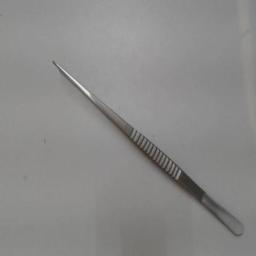DeBakey Dissector: (44, 46, 248, 244)
